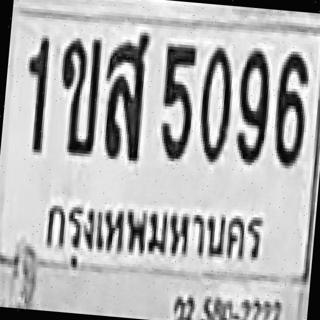A02: (53, 34, 102, 154)
A40: (99, 26, 149, 158)
N00: (196, 45, 234, 161)
N01: (20, 32, 50, 151)
N05: (156, 40, 196, 160)
N06: (270, 50, 311, 167)
N09: (234, 47, 272, 164)
P04: (32, 188, 263, 284)
